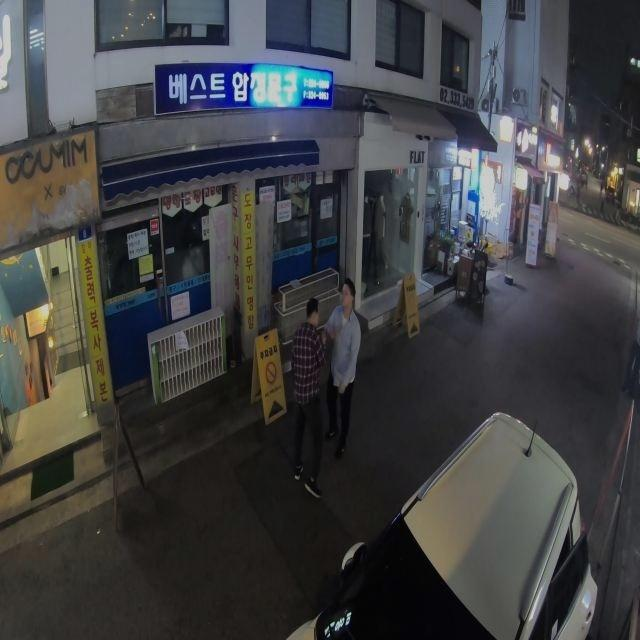fight: (284, 276, 364, 501)
